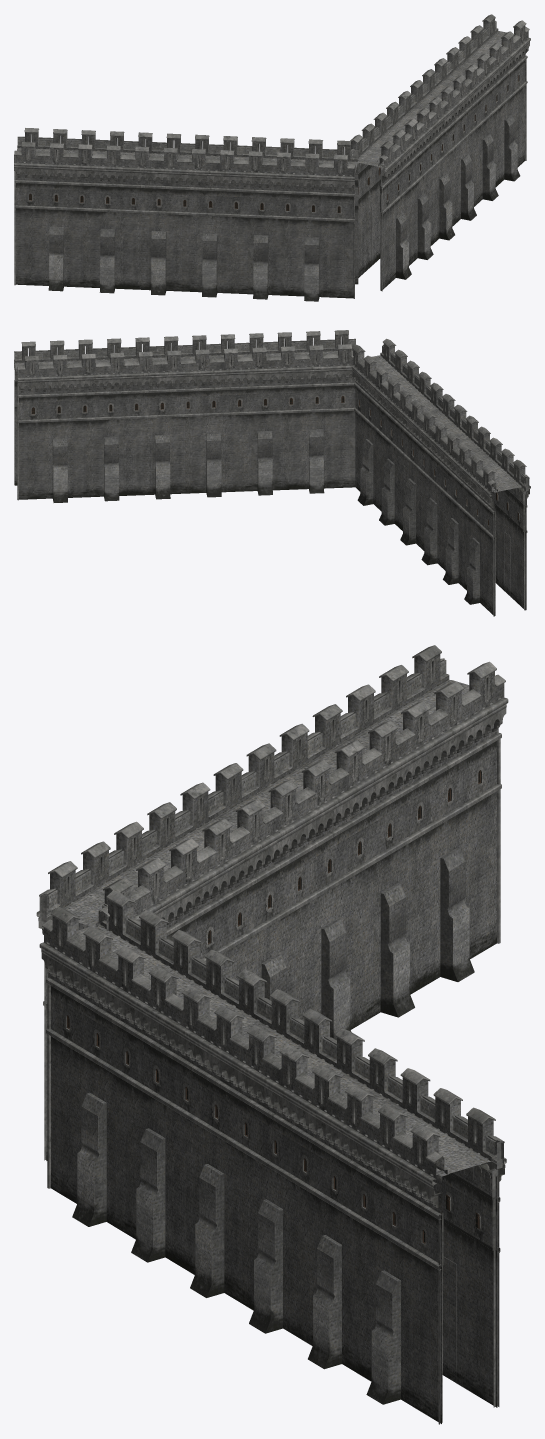
Rendered from Castle_Wall_B_Straight07.fbx.
3 views of the same model, one above another, from view 1: azimuth 30°, elevation 25°; view 2: azimuth 150°, elevation 25°; view 3: azimuth 270°, elevation 25° (orthographic). The views are drawn at different scales.
Parts seen in each view (by area): view 1: Castle_Wall_B_Straight.007; view 2: Castle_Wall_B_Straight.007; view 3: Castle_Wall_B_Straight.007.
Part boxes in pixels (x1,y1,x2,y2): Castle_Wall_B_Straight.007: (14,14,530,301); Castle_Wall_B_Straight.007: (14,330,530,616); Castle_Wall_B_Straight.007: (36,645,508,1424).
Size of the model in its own units: 5230 by 1383 by 2067.
